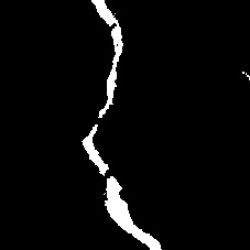crack: (106, 176, 163, 249), (93, 0, 123, 119), (83, 124, 108, 175)
